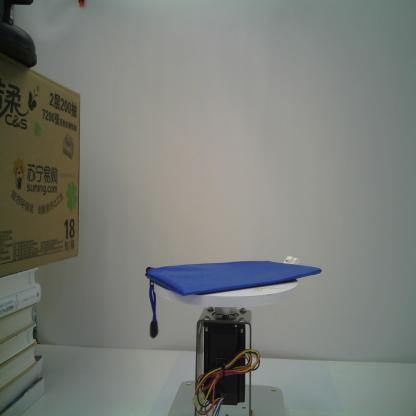Stationery: (145, 260, 322, 337)
